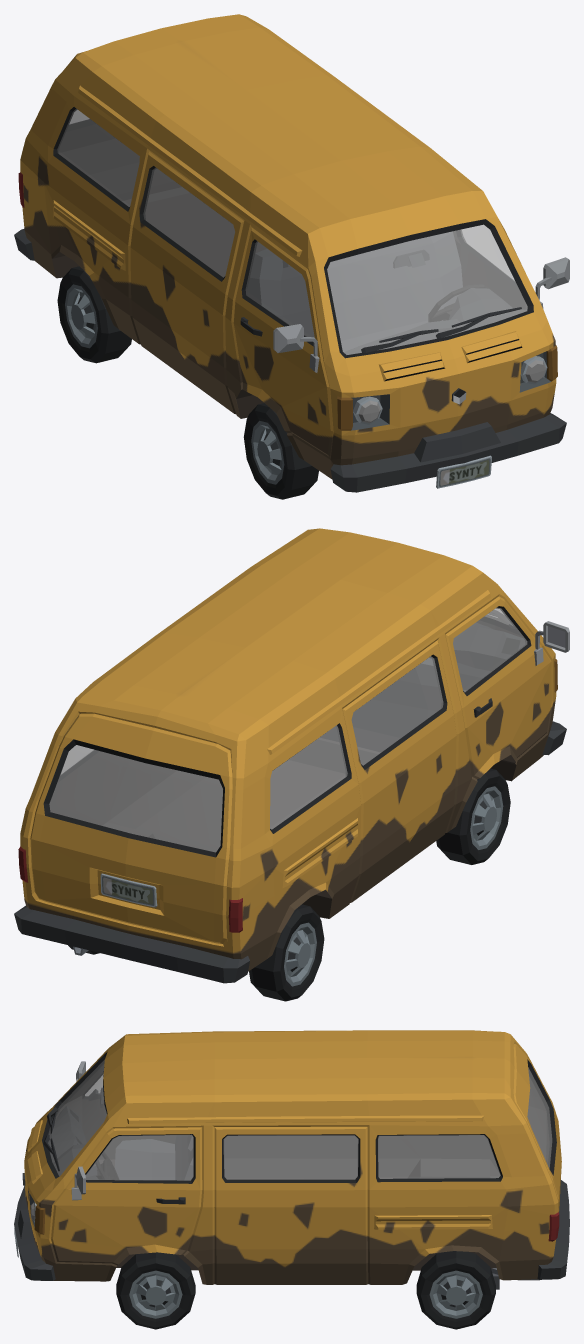
File: SM_Veh_Van_01.fbx
3 renders of one model, top to bottom at view 1: azimuth 30°, elevation 25°; view 2: azimuth 150°, elevation 25°; view 3: azimuth 270°, elevation 25°, orthographic. The views are drawn at different scales.
Visible parts, largest first — view 1: SM_Veh_Van_01, SM_Veh_Van_01_Glass, SM_Veh_Van_01_Door, SM_Veh_Van_Wheel_fr, SM_Veh_Van_Wheel_rr, SM_Veh_Van_SteeringW; view 2: SM_Veh_Van_01, SM_Veh_Van_01_Door, SM_Veh_Van_01_Glass, SM_Veh_Van_01_Door_Glass, SM_Veh_Van_Wheel_rr, SM_Veh_Van_Wheel_fr; view 3: SM_Veh_Van_01, SM_Veh_Van_01_Glass, SM_Veh_Van_Wheel_rl, SM_Veh_Van_Wheel_fl, SM_Veh_Van_01_Door, SM_Veh_Van_01_Door_Glass, SM_Veh_Van_SteeringW.
Boxes of the visible parts, left/top/right/bottom form: SM_Veh_Van_01: left=14, top=14, right=569, bottom=492; SM_Veh_Van_01_Glass: left=57, top=109, right=527, bottom=354; SM_Veh_Van_01_Door: left=59, top=119, right=181, bottom=200; SM_Veh_Van_Wheel_fr: left=243, top=403, right=318, bottom=499; SM_Veh_Van_Wheel_rr: left=57, top=266, right=131, bottom=363; SM_Veh_Van_SteeringW: left=428, top=284, right=492, bottom=322; SM_Veh_Van_01: left=14, top=528, right=569, bottom=983; SM_Veh_Van_01_Door: left=30, top=713, right=232, bottom=943; SM_Veh_Van_01_Glass: left=61, top=607, right=527, bottom=829; SM_Veh_Van_01_Door_Glass: left=49, top=745, right=222, bottom=852; SM_Veh_Van_Wheel_rr: left=249, top=904, right=324, bottom=1001; SM_Veh_Van_Wheel_fr: left=436, top=768, right=510, bottom=864; SM_Veh_Van_01: left=14, top=1030, right=569, bottom=1289; SM_Veh_Van_01_Glass: left=48, top=1060, right=500, bottom=1180; SM_Veh_Van_Wheel_rl: left=416, top=1251, right=495, bottom=1329; SM_Veh_Van_Wheel_fl: left=116, top=1252, right=195, bottom=1329; SM_Veh_Van_01_Door: left=513, top=1043, right=561, bottom=1212; SM_Veh_Van_01_Door_Glass: left=527, top=1068, right=552, bottom=1168; SM_Veh_Van_SteeringW: left=95, top=1151, right=119, bottom=1179.
Bounding box in the file's own units: 229 × 211 × 463.
